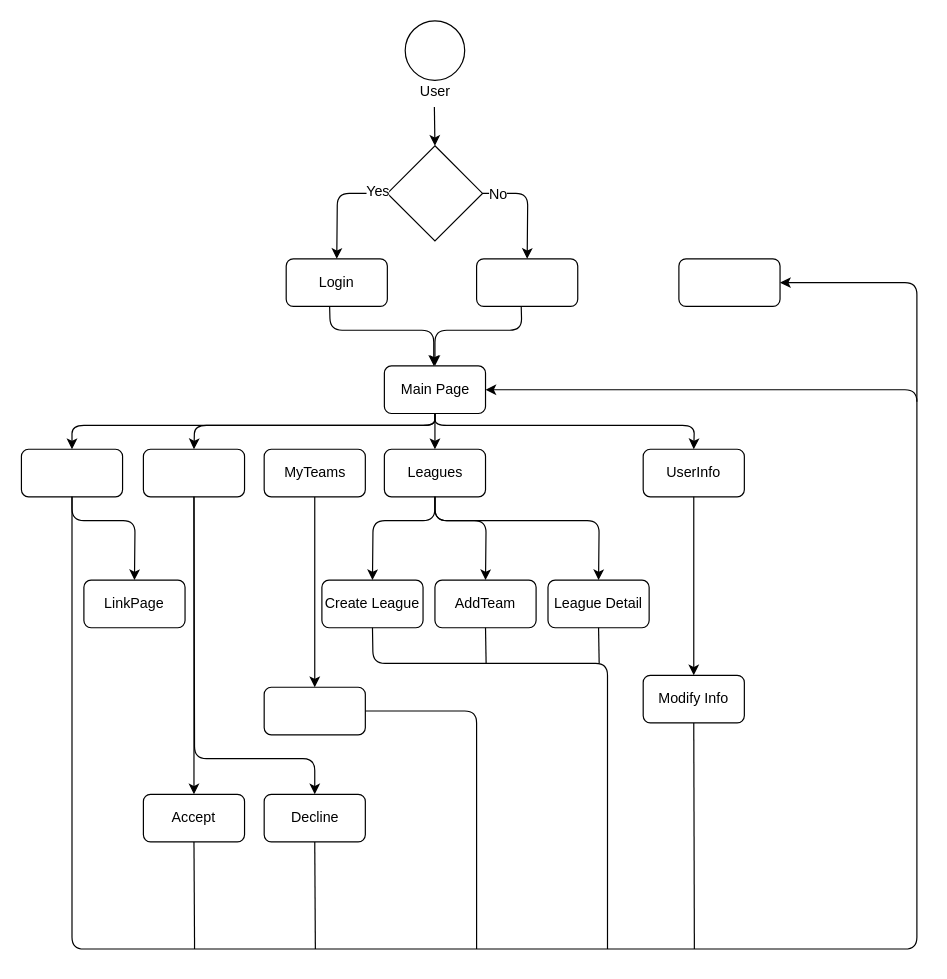
Some shapes in this 947 by 979 pixel diagram are drawn without their labels. The shapes that lost their labels are listed below. From the top down, each one's centre as x and y in pixels, then its label:
the point at 434,193: Logged?
the point at 526,282: Register
the point at 729,282: Logout
the point at 71,472: News
the point at 193,472: Requests
the point at 314,710: Create Team
